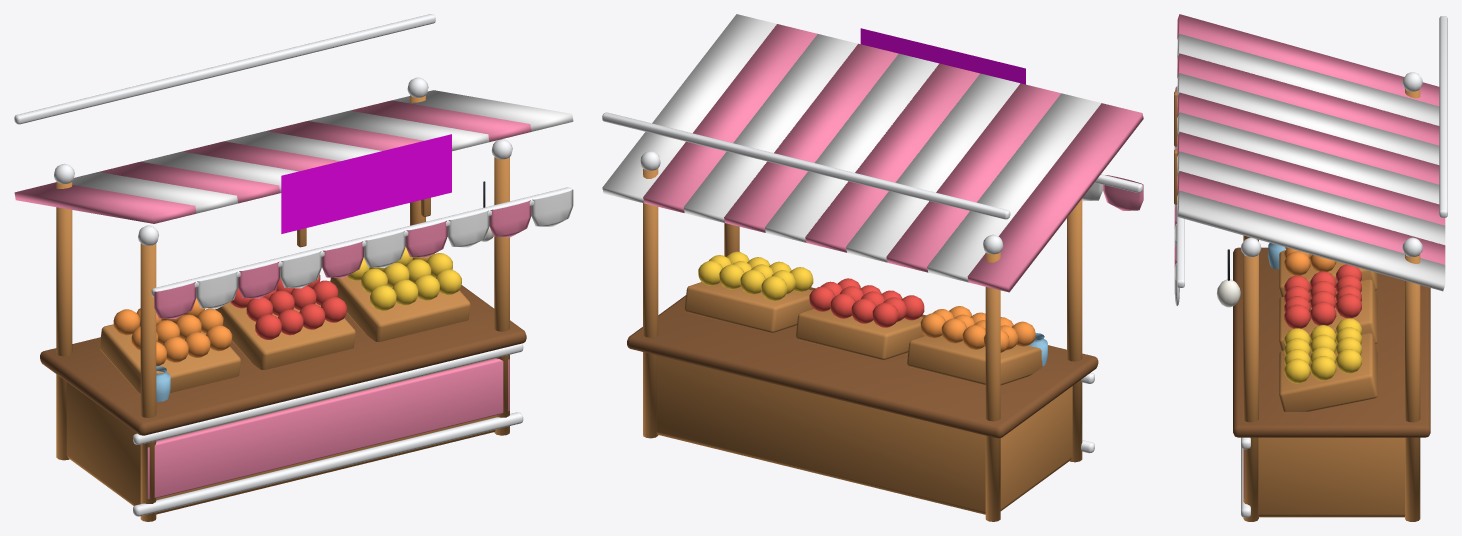
File: stall_tint.glb
3 renders of one model, left to right at view 1: azimuth 30°, elevation 25°; view 2: azimuth 150°, elevation 25°; view 3: azimuth 270°, elevation 25°, orthographic. The views are drawn at different scales.
Visible parts, largest first — view 1: stall_tint; view 2: stall_tint; view 3: stall_tint.
Boxes of the visible parts, bbox=[...] form: stall_tint: bbox=[14, 14, 573, 521]; stall_tint: bbox=[602, 14, 1143, 521]; stall_tint: bbox=[1174, 14, 1447, 521].
Bounding box in the file's own units: 2.7 × 2.16 × 1.6.
